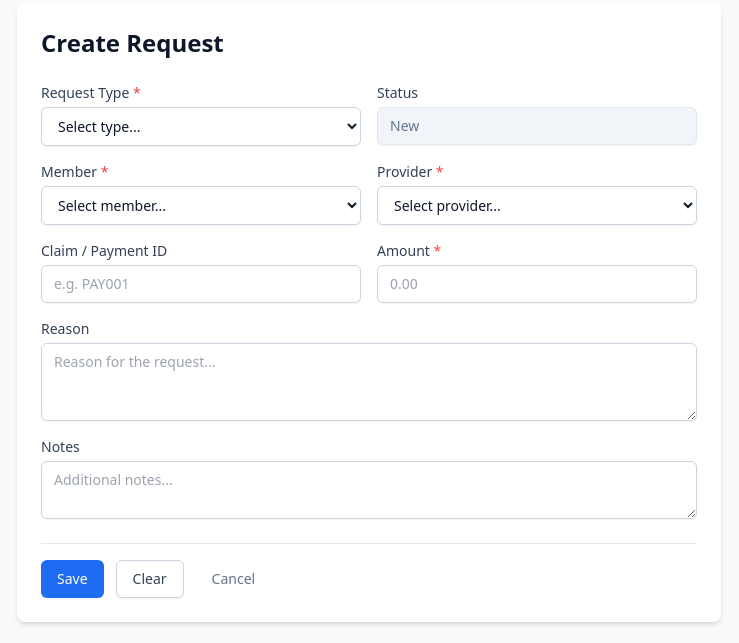
Test: RequestForm › Clear button behavior › resets form fields to empty in create mode
The width and height of the screenshot is (739, 643).
Select "Refund" in the dropdown labelled "Request Type *": (201, 126) top-left (41, 107), bottom-right (361, 146)
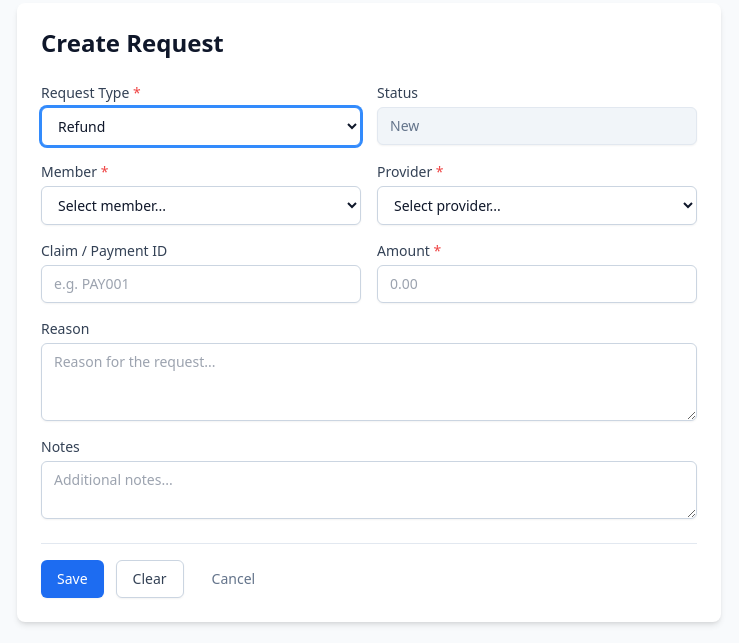
Select "MEM001 — John Smith" in the dropdown labelled "Member *": (201, 206) top-left (41, 186), bottom-right (361, 225)
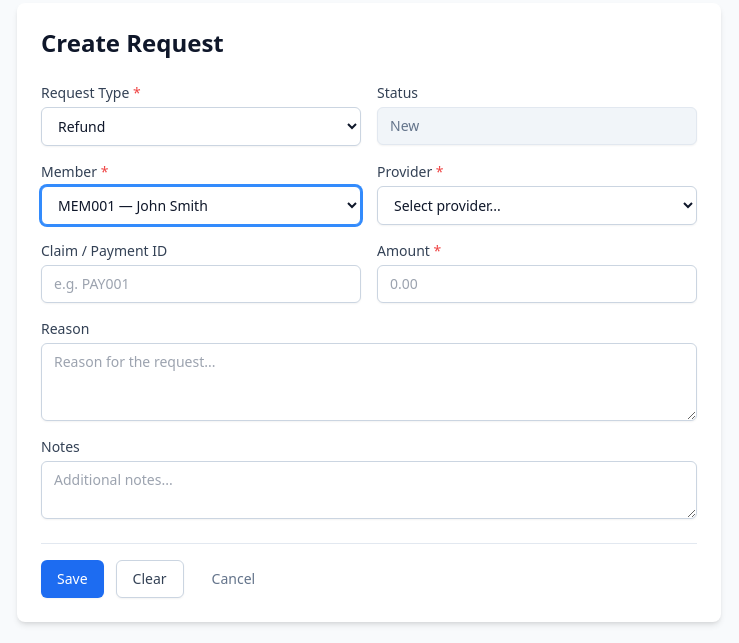
In the number field labelled "Amount *": (537, 284) top-left (377, 265), bottom-right (697, 303), type "500"
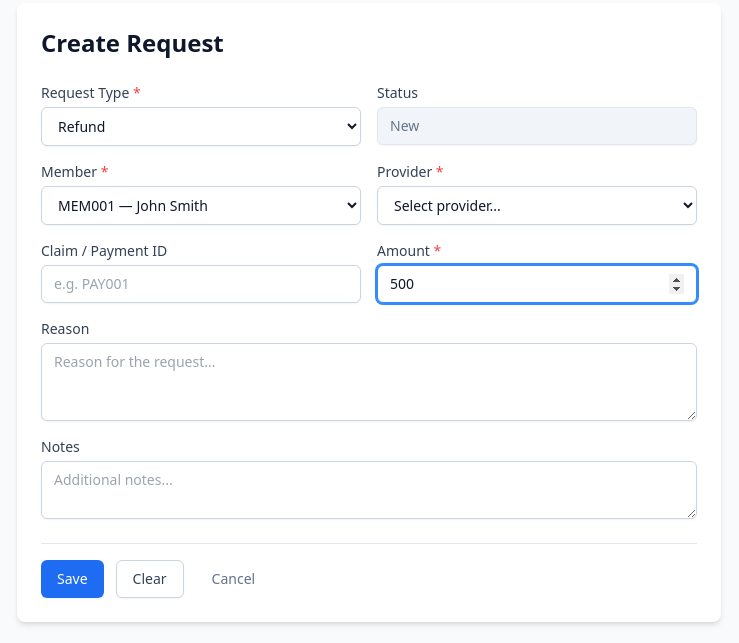
Click the button "Clear": (150, 579) top-left (116, 560), bottom-right (184, 598)
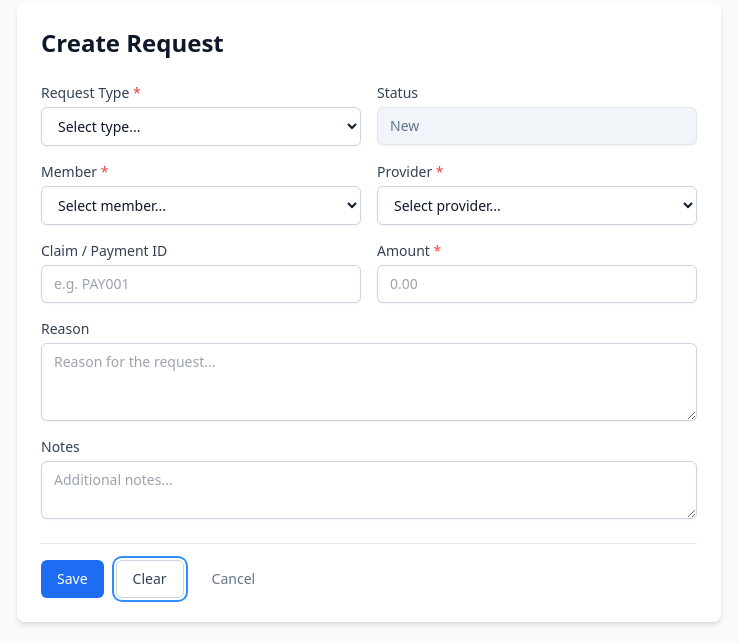
Expected: the number field labelled "Amount *" is not empty, top-left (377, 265), bottom-right (697, 303)
